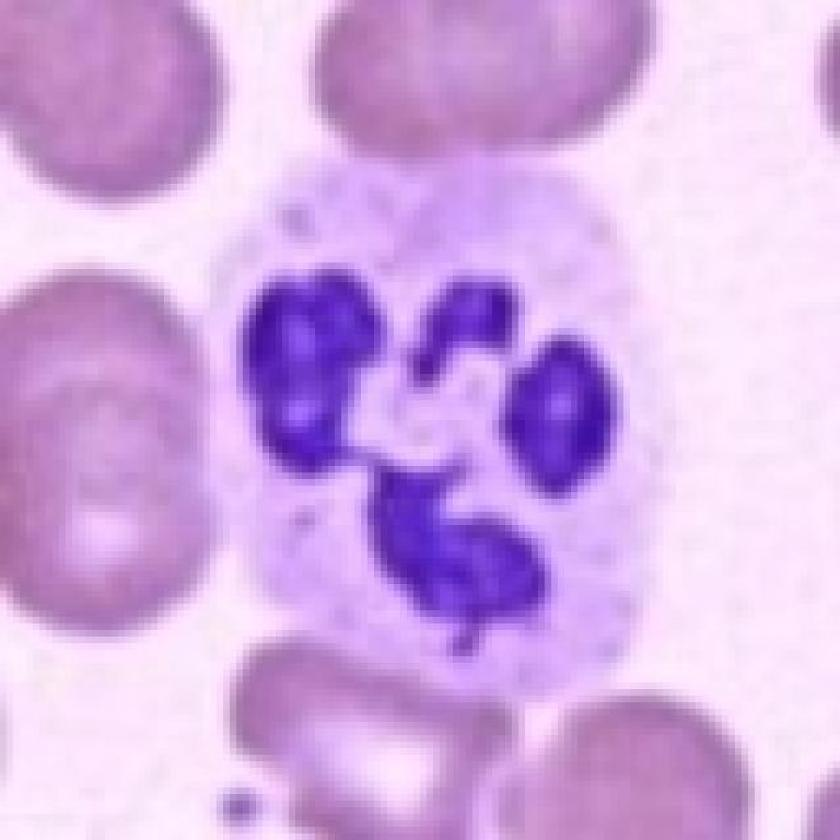neutrophil: (193, 152, 672, 699)
